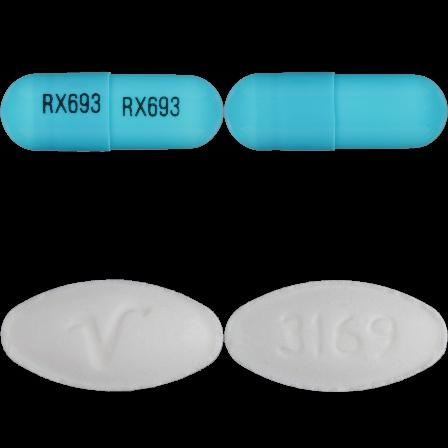61919-441: (0, 0, 224, 224)
